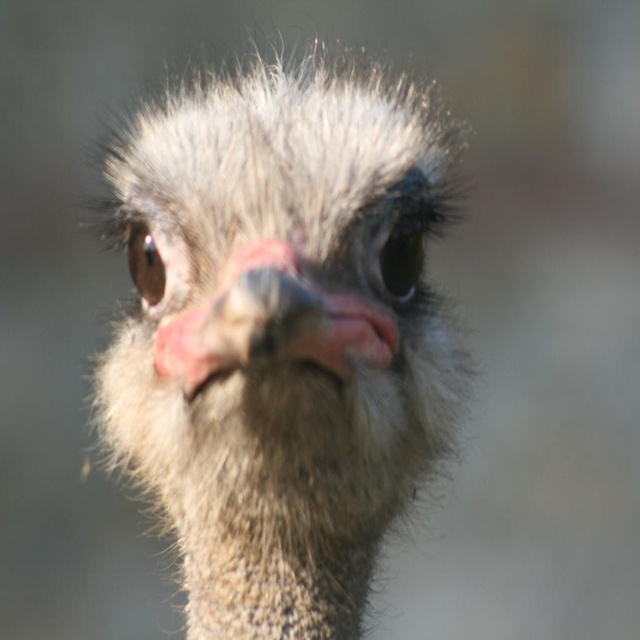Ostrich: (34, 29, 497, 640)
